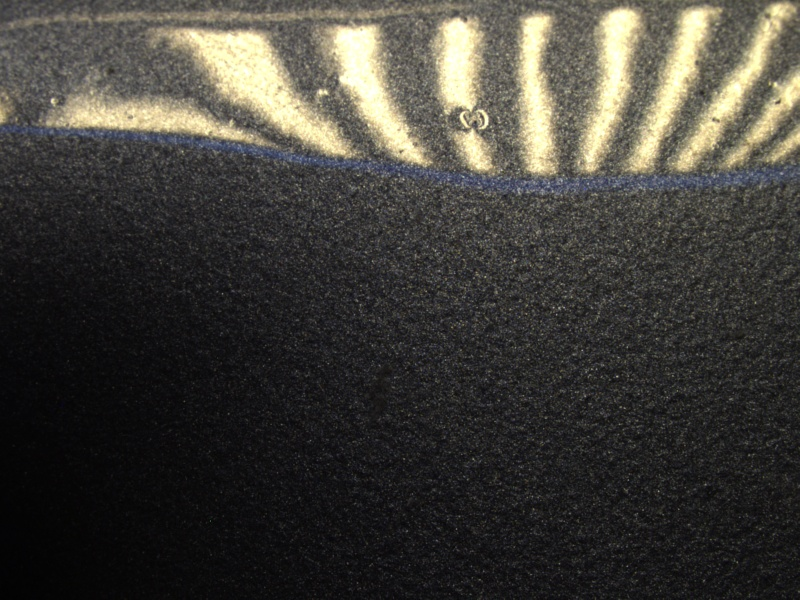bad: (448, 98, 494, 138)
